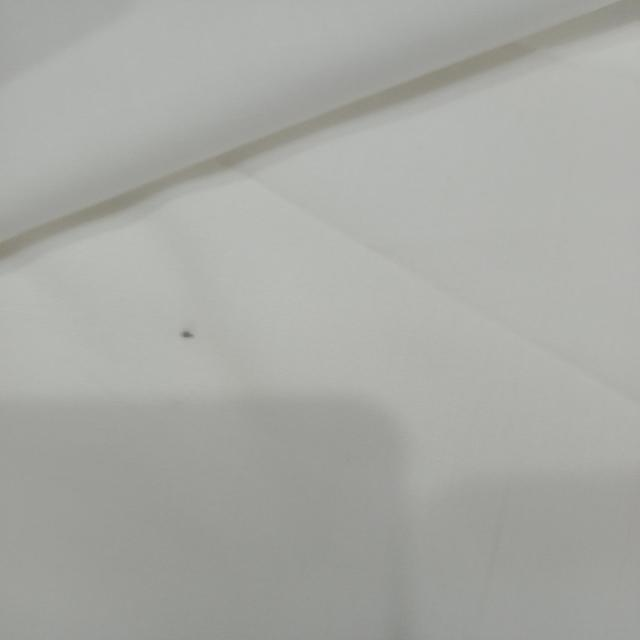stain: (170, 326, 204, 345)
